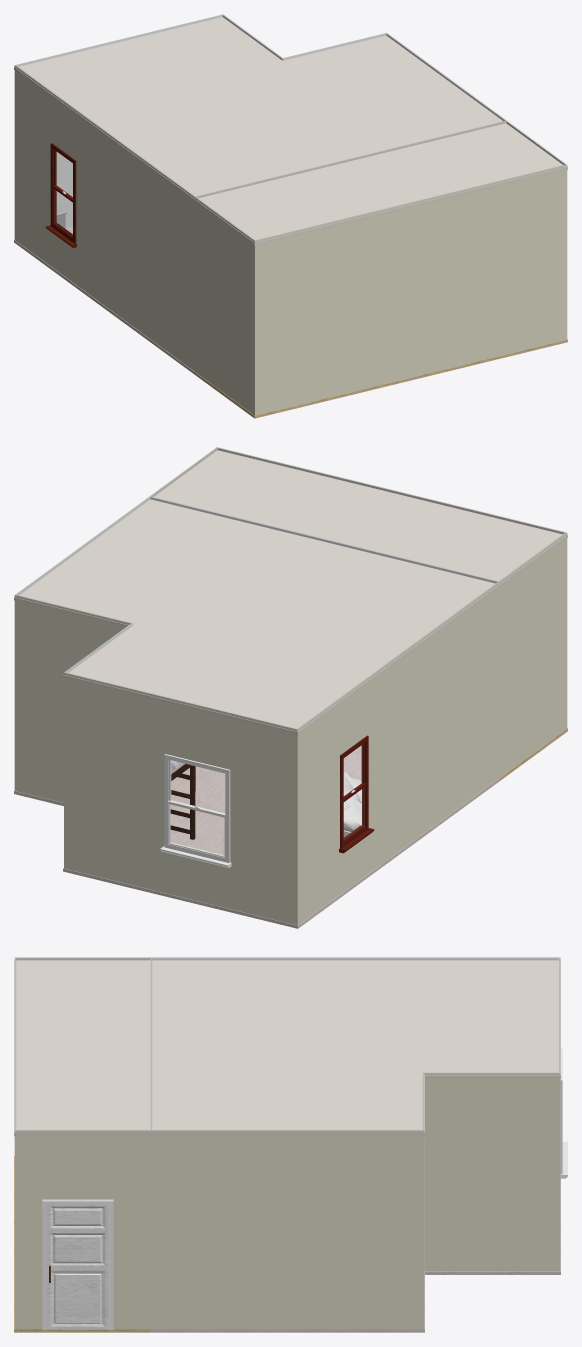
File: ProcTHOR-Train-140.glb
3 views of the same model, one above another, from view 1: azimuth 30°, elevation 25°; view 2: azimuth 150°, elevation 25°; view 3: azimuth 270°, elevation 25° (orthographic). The views are drawn at different scales.
Visible parts, largest first — view 1: WallInside#wall|exterior|0.00|8.00|6.00|8.00, Ceiling#room|2|c, WallInside#wall|exterior|6.00|0.00|6.00|6.00, Ceiling#room|3|c, WallInside#wall|exterior|6.00|6.00|6.00|8.00, WallInside#wall|2|2.00|0.00|6.00|0.00, Window_Hung_32x60, Floor#room|3|f, WallInside#wall|3|0.00|6.00|6.00|6.00, Floor#room|2|f; view 2: Ceiling#room|2|c, WallInside#wall|exterior|2.00|0.00|6.00|0.00, WallInside#wall|exterior|6.00|0.00|6.00|6.00, Ceiling#room|3|c, WallInside#wall|exterior|6.00|6.00|6.00|8.00, WallInside#wall|exterior|0.00|2.00|2.00|2.00, Floor#room|2|f, Window_Hung_44x60, Window_Hung_32x60, WallInside#wall|3|0.00|8.00|6.00|8.00, WallInside#wall|2|0.00|6.00|6.00|6.00, Bed_18_2 (+1 smaller); view 3: Ceiling#room|2|c, WallInside#wall|exterior|0.00|2.00|0.00|6.00, WallInside#wall|exterior|2.00|0.00|2.00|2.00, Ceiling#room|3|c, WallInside#wall|exterior|0.00|6.00|0.00|8.00, Doorway_8, Floor#room|2|f, WallInside#wall|2|6.00|0.00|6.00|6.00, Floor#room|3|f, Window_Hung_44x60.
Boxes of the visible parts, x1,y1,x2,y2 form: WallInside#wall|exterior|0.00|8.00|6.00|8.00: [255, 165, 567, 415]; Ceiling#room|2|c: [14, 17, 505, 200]; WallInside#wall|exterior|6.00|0.00|6.00|6.00: [14, 65, 194, 371]; Ceiling#room|3|c: [193, 123, 567, 245]; WallInside#wall|exterior|6.00|6.00|6.00|8.00: [194, 197, 254, 415]; WallInside#wall|2|2.00|0.00|6.00|0.00: [15, 14, 223, 227]; Window_Hung_32x60: [45, 143, 76, 247]; Floor#room|3|f: [193, 339, 567, 418]; WallInside#wall|3|0.00|6.00|6.00|6.00: [196, 121, 506, 198]; Floor#room|2|f: [14, 226, 194, 373]; Ceiling#room|2|c: [14, 499, 500, 734]; WallInside#wall|exterior|2.00|0.00|6.00|0.00: [64, 672, 297, 925]; WallInside#wall|exterior|6.00|0.00|6.00|6.00: [297, 582, 499, 924]; Ceiling#room|3|c: [154, 450, 567, 587]; WallInside#wall|exterior|6.00|6.00|6.00|8.00: [499, 533, 567, 777]; WallInside#wall|exterior|0.00|2.00|2.00|2.00: [14, 595, 132, 802]; Floor#room|2|f: [14, 745, 499, 928]; Window_Hung_44x60: [160, 754, 231, 867]; Window_Hung_32x60: [339, 735, 374, 853]; WallInside#wall|3|0.00|8.00|6.00|8.00: [217, 447, 566, 534]; WallInside#wall|2|0.00|6.00|6.00|6.00: [150, 497, 497, 583]; Bed_18_2: [170, 760, 195, 839]; Ceiling#room|2|c: [150, 959, 560, 1136]; WallInside#wall|exterior|0.00|2.00|0.00|6.00: [150, 1130, 424, 1329]; WallInside#wall|exterior|2.00|0.00|2.00|2.00: [424, 1073, 560, 1271]; Ceiling#room|3|c: [14, 959, 152, 1136]; WallInside#wall|exterior|0.00|6.00|0.00|8.00: [14, 1130, 151, 1329]; Doorway_8: [42, 1199, 113, 1329]; Floor#room|2|f: [150, 1179, 560, 1332]; WallInside#wall|2|6.00|0.00|6.00|6.00: [151, 958, 559, 960]; Floor#room|3|f: [14, 1155, 152, 1332]; Window_Hung_44x60: [560, 1048, 567, 1178].
Size of what is drawn, in the model's own units: 6.21 by 3.27 by 8.14.
Materials: 127 (44 with a texture image).
